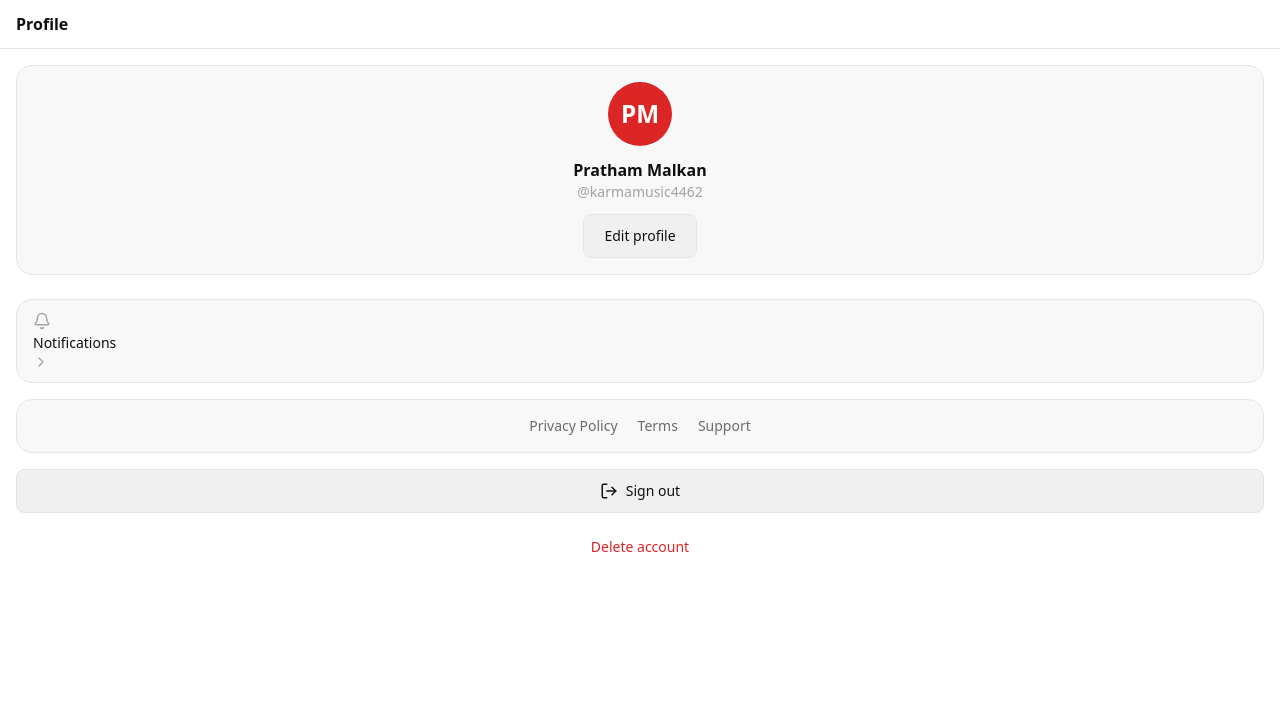
ProfilePage › 4. Profile refresh failure is not falsely reported as a failed database write
This screenshot has width=1280, height=712.
Click the button "Edit profile" at (640, 236), box top-left (583, 214), bottom-right (697, 258)
(page scrolled)
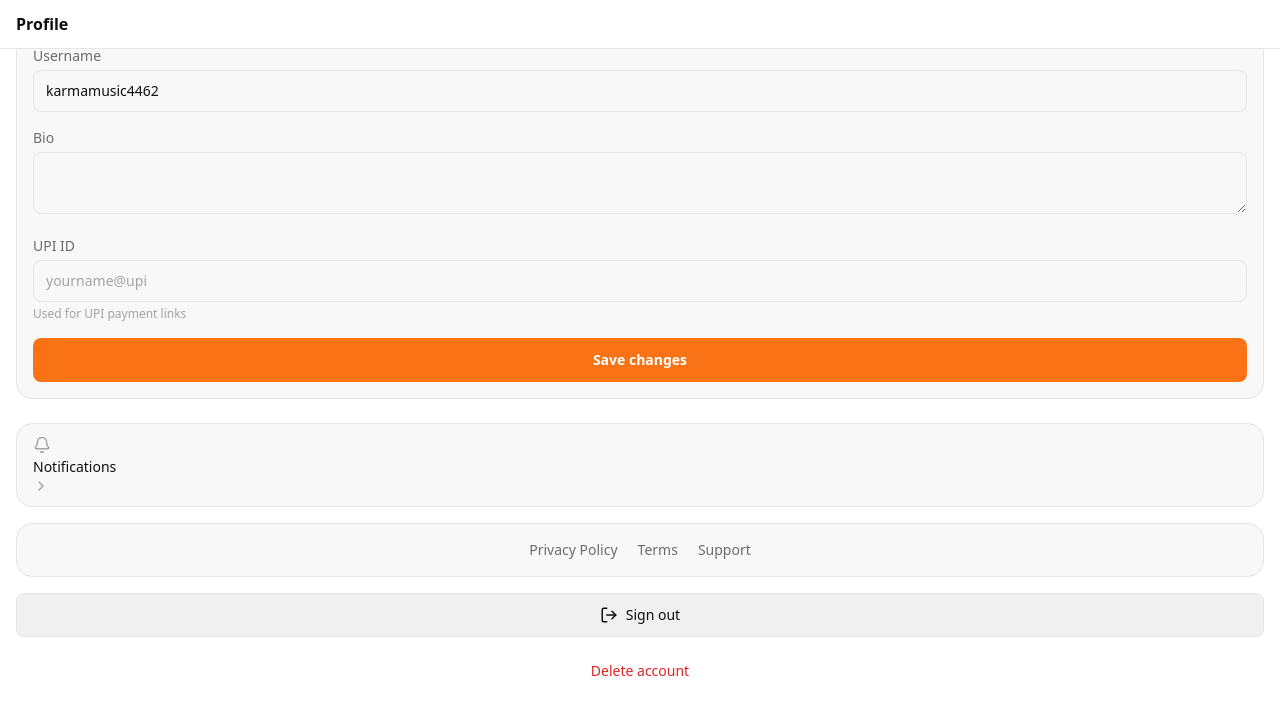
Click the button "Save changes" at (640, 360), box top-left (33, 338), bottom-right (1247, 382)
(page scrolled)
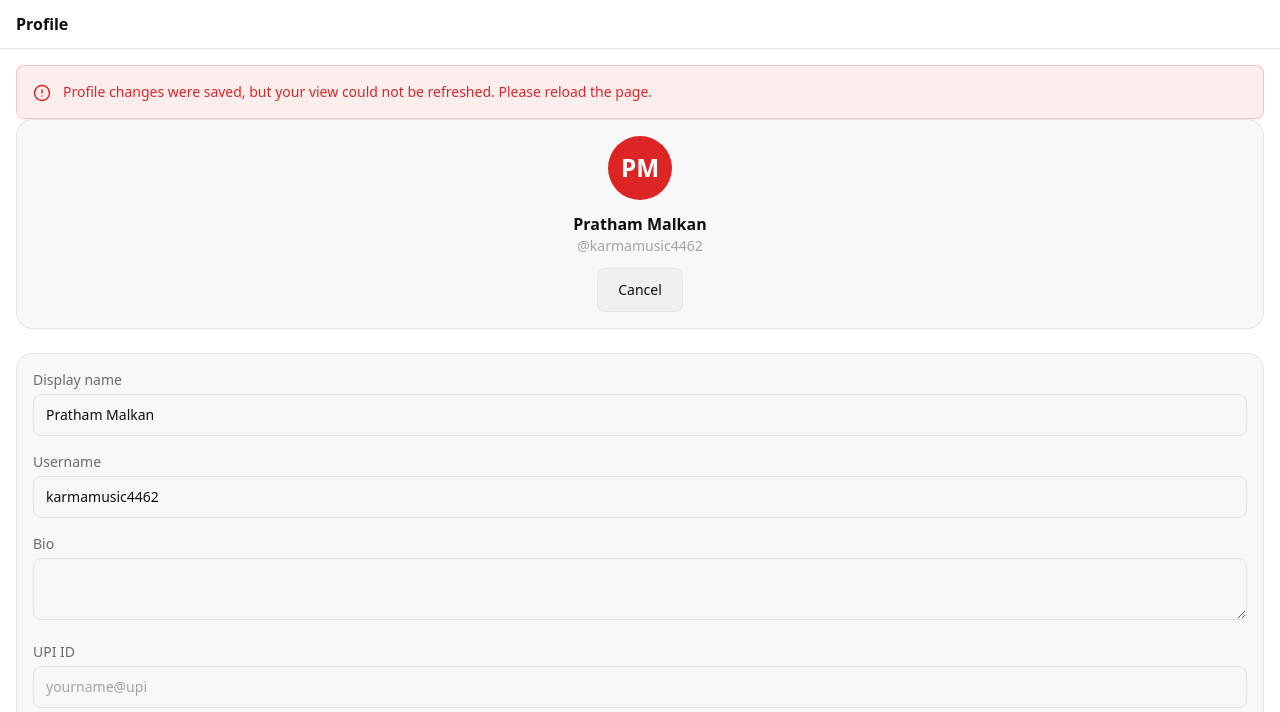
Result: the message shows "Profile changes were saved, but your view could not be refreshed. Please reload the page." at top-left (63, 82), bottom-right (652, 101)
